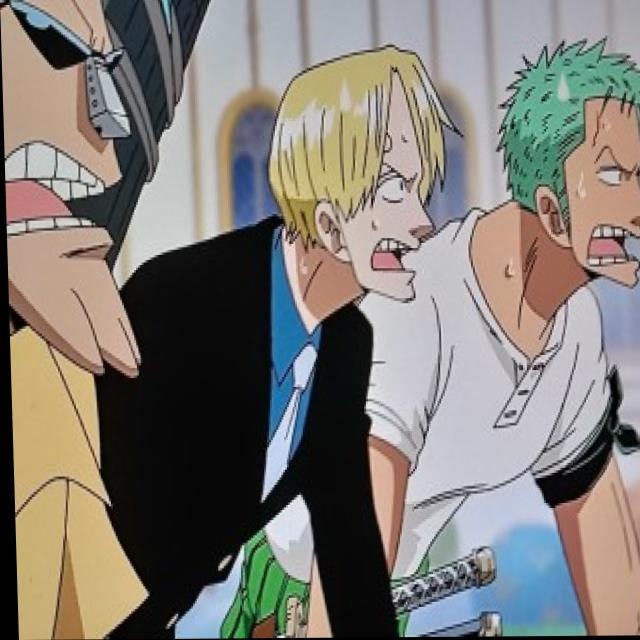Franky: (0, 0, 141, 381), (490, 36, 640, 283)
Sangdi: (260, 16, 445, 311)
